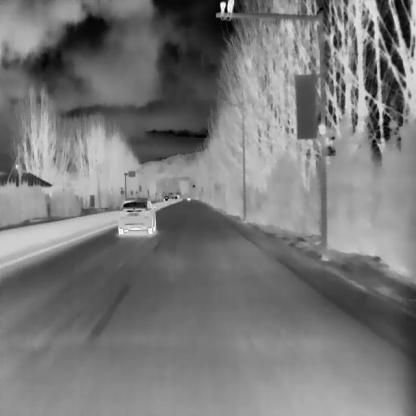car: (117, 197, 156, 234)
